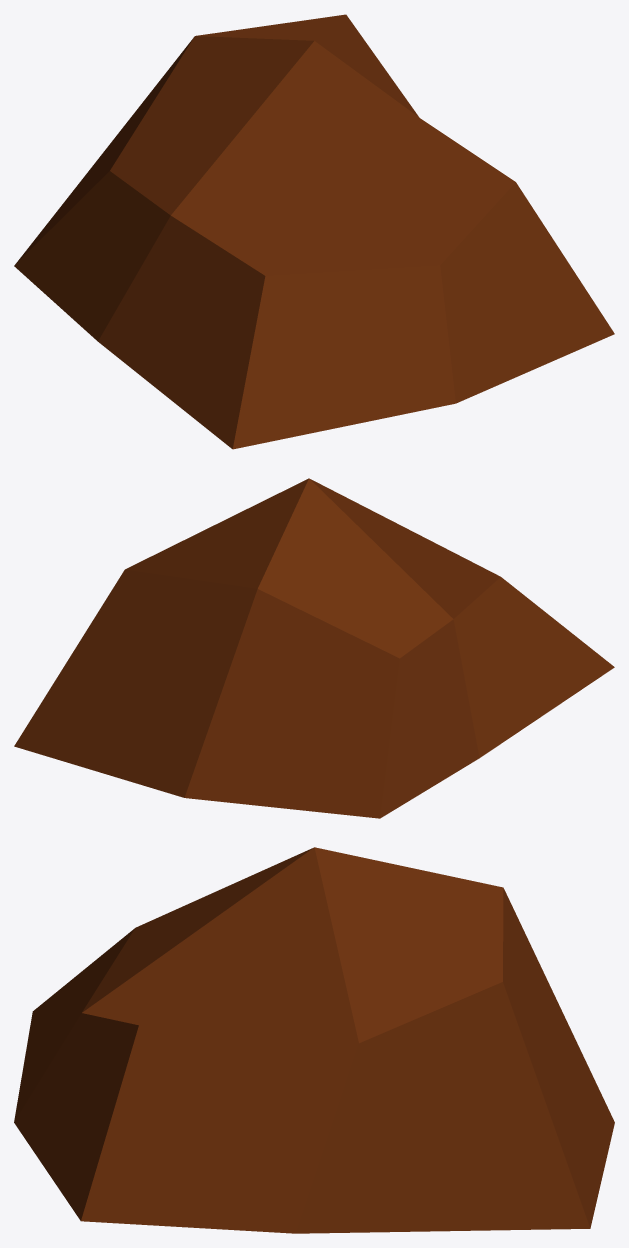
File: Digsite_Hill.fbx
The picture shows the model from 3 angles, top to bottom: view 1: azimuth 30°, elevation 25°; view 2: azimuth 150°, elevation 25°; view 3: azimuth 270°, elevation 25°; orthographic projection. The views are drawn at different scales.
Visible parts, largest first — view 1: Digsite_Hill; view 2: Digsite_Hill; view 3: Digsite_Hill.
Part boxes in pixels (x1,y1,x2,y2): Digsite_Hill: (14, 14, 614, 449); Digsite_Hill: (14, 478, 614, 818); Digsite_Hill: (14, 847, 614, 1233).
Size of the model in its own units: 87.51 by 50.55 by 100.
